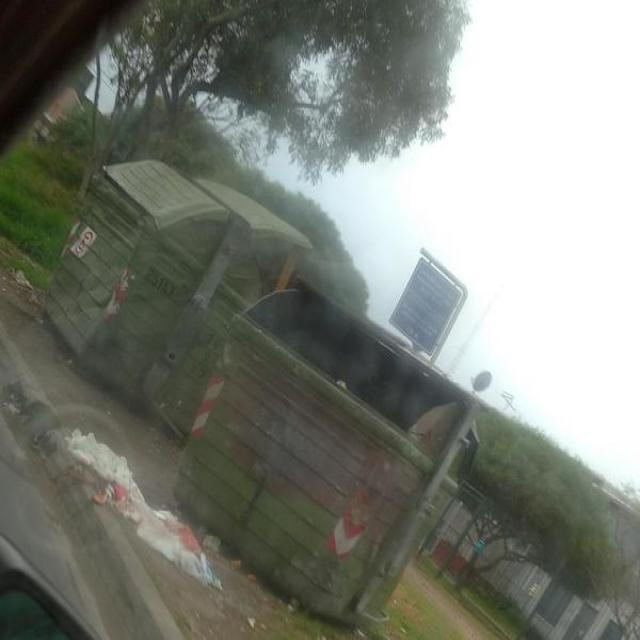garbage: (34, 414, 252, 588)
